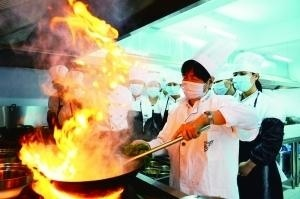fire: (16, 1, 144, 185)
